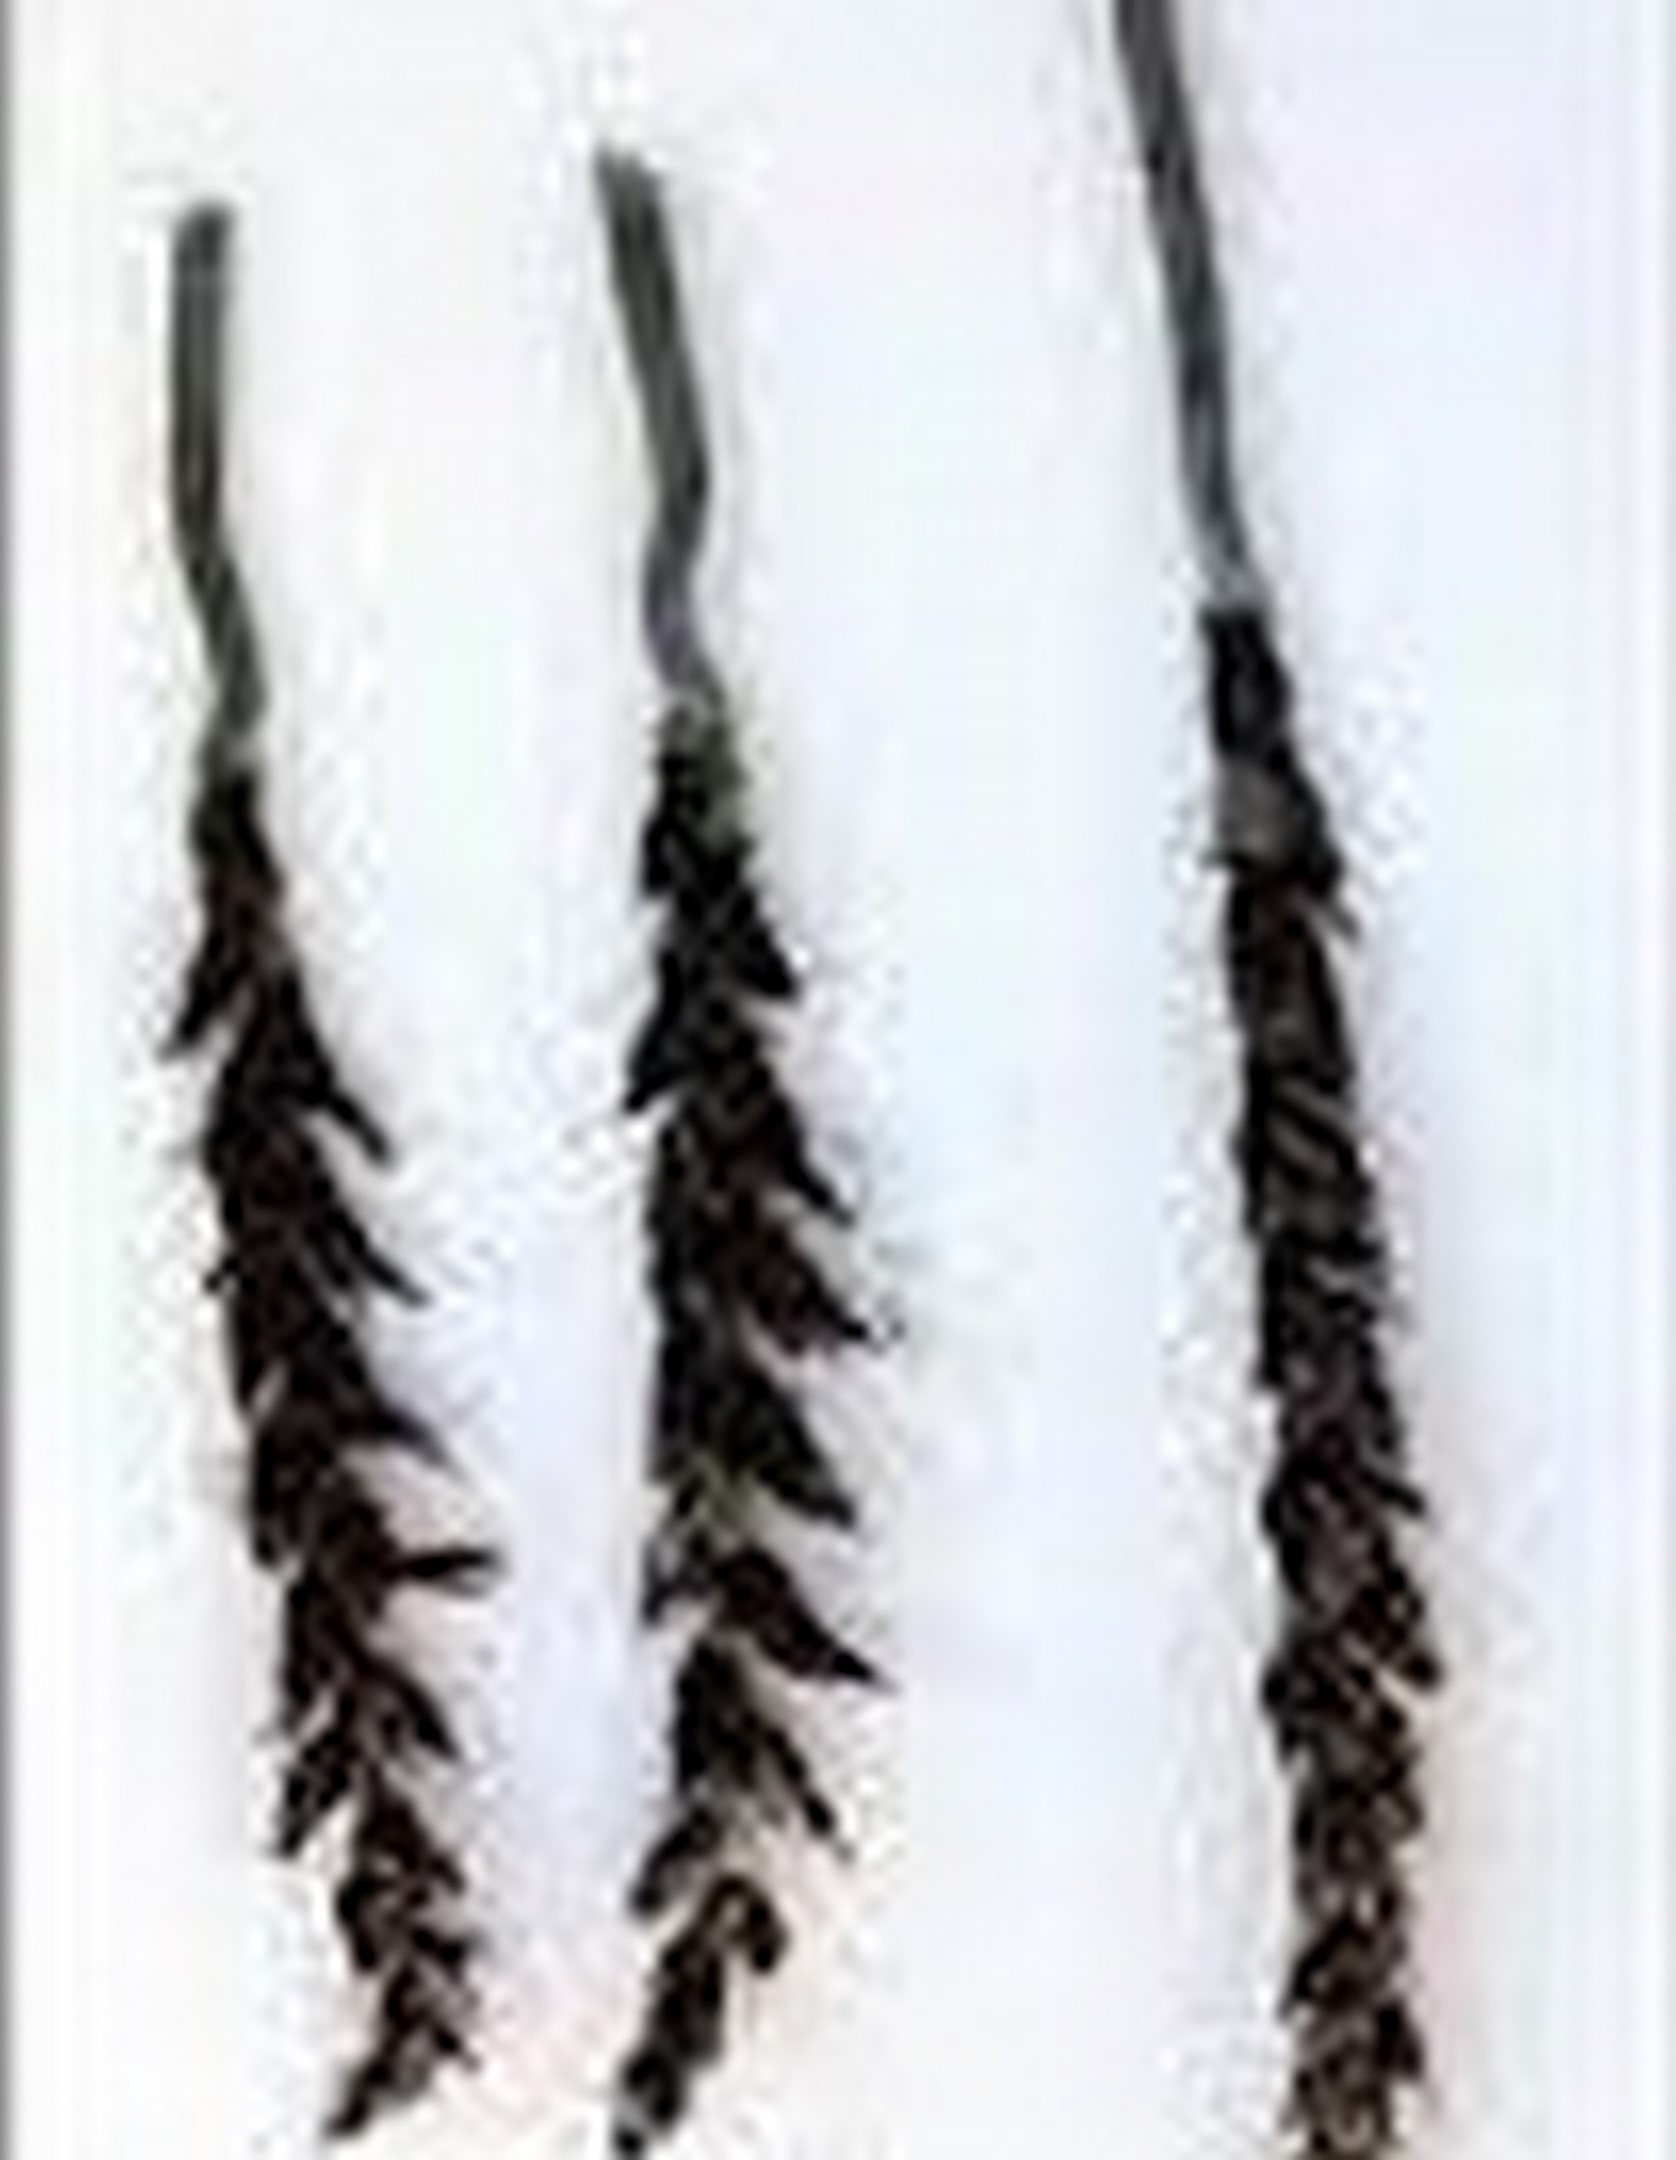Wheat Loose Smut: (100, 682, 968, 2114), (1147, 610, 1515, 2128)
